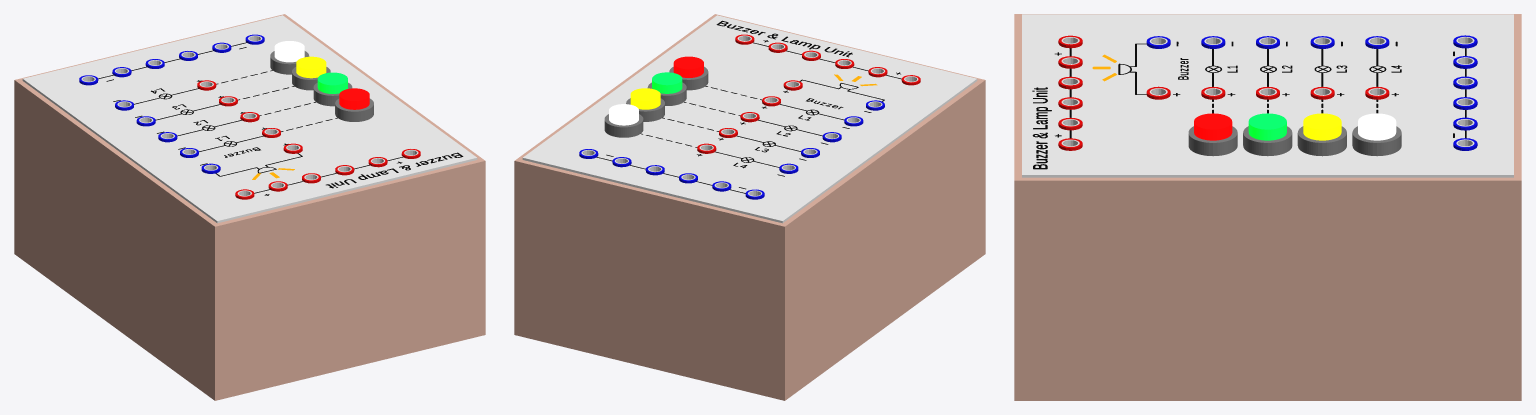
The model's file is buzzer-lamp.glb.
The picture shows the model from 3 angles, left to right: view 1: azimuth 30°, elevation 25°; view 2: azimuth 150°, elevation 25°; view 3: azimuth 270°, elevation 25°; orthographic projection. The views are drawn at different scales.
Parts seen in each view (by area): view 1: Buizzer-Lamp-ModuleBox_OP__go1003__mesh0, Buizzer-Lamp-ModuleBox_OP__go1003__mesh3, Buizzer-Lamp-ModuleBox_OP__go1003__mesh6, Buizzer-Lamp-ModuleBox_OP__go1003__mesh5, Buizzer-Lamp-ModuleBox_OP__go1003__mesh7, Buizzer-Lamp-ModuleBox_OP__go1003__mesh1, Buizzer-Lamp-ModuleBox_OP__go1003__mesh4, Buizzer-Lamp-ModuleBox_OP__go1003__mesh9, Buizzer-Lamp-ModuleBox_OP__go1003__mesh8, Buizzer-Lamp-ModuleBox_OP__go1003__mesh2; view 2: Buizzer-Lamp-ModuleBox_OP__go1003__mesh0, Buizzer-Lamp-ModuleBox_OP__go1003__mesh3, Buizzer-Lamp-ModuleBox_OP__go1003__mesh7, Buizzer-Lamp-ModuleBox_OP__go1003__mesh5, Buizzer-Lamp-ModuleBox_OP__go1003__mesh6, Buizzer-Lamp-ModuleBox_OP__go1003__mesh1, Buizzer-Lamp-ModuleBox_OP__go1003__mesh2, Buizzer-Lamp-ModuleBox_OP__go1003__mesh9, Buizzer-Lamp-ModuleBox_OP__go1003__mesh4, Buizzer-Lamp-ModuleBox_OP__go1003__mesh8; view 3: Buizzer-Lamp-ModuleBox_OP__go1003__mesh0, Buizzer-Lamp-ModuleBox_OP__go1003__mesh3, Buizzer-Lamp-ModuleBox_OP__go1003__mesh1, Buizzer-Lamp-ModuleBox_OP__go1003__mesh5, Buizzer-Lamp-ModuleBox_OP__go1003__mesh6, Buizzer-Lamp-ModuleBox_OP__go1003__mesh7, Buizzer-Lamp-ModuleBox_OP__go1003__mesh4, Buizzer-Lamp-ModuleBox_OP__go1003__mesh8, Buizzer-Lamp-ModuleBox_OP__go1003__mesh9, Buizzer-Lamp-ModuleBox_OP__go1003__mesh2.
Part boxes in pixels (<box>): Buizzer-Lamp-ModuleBox_OP__go1003__mesh0: <box>14,14,485,400</box>; Buizzer-Lamp-ModuleBox_OP__go1003__mesh3: <box>22,15,477,223</box>; Buizzer-Lamp-ModuleBox_OP__go1003__mesh6: <box>197,80,420,199</box>; Buizzer-Lamp-ModuleBox_OP__go1003__mesh5: <box>79,34,264,173</box>; Buizzer-Lamp-ModuleBox_OP__go1003__mesh7: <box>98,42,463,195</box>; Buizzer-Lamp-ModuleBox_OP__go1003__mesh1: <box>270,51,373,121</box>; Buizzer-Lamp-ModuleBox_OP__go1003__mesh4: <box>339,88,369,109</box>; Buizzer-Lamp-ModuleBox_OP__go1003__mesh9: <box>296,56,326,78</box>; Buizzer-Lamp-ModuleBox_OP__go1003__mesh8: <box>274,41,304,62</box>; Buizzer-Lamp-ModuleBox_OP__go1003__mesh2: <box>317,72,347,93</box>; Buizzer-Lamp-ModuleBox_OP__go1003__mesh0: <box>514,14,985,400</box>; Buizzer-Lamp-ModuleBox_OP__go1003__mesh3: <box>522,15,977,223</box>; Buizzer-Lamp-ModuleBox_OP__go1003__mesh7: <box>596,20,901,193</box>; Buizzer-Lamp-ModuleBox_OP__go1003__mesh5: <box>579,100,884,199</box>; Buizzer-Lamp-ModuleBox_OP__go1003__mesh6: <box>697,34,920,153</box>; Buizzer-Lamp-ModuleBox_OP__go1003__mesh1: <box>604,66,708,137</box>; Buizzer-Lamp-ModuleBox_OP__go1003__mesh2: <box>652,72,682,93</box>; Buizzer-Lamp-ModuleBox_OP__go1003__mesh9: <box>630,88,660,109</box>; Buizzer-Lamp-ModuleBox_OP__go1003__mesh4: <box>673,56,703,77</box>; Buizzer-Lamp-ModuleBox_OP__go1003__mesh8: <box>609,104,638,125</box>; Buizzer-Lamp-ModuleBox_OP__go1003__mesh0: <box>1014,14,1521,400</box>; Buizzer-Lamp-ModuleBox_OP__go1003__mesh3: <box>1022,14,1513,177</box>; Buizzer-Lamp-ModuleBox_OP__go1003__mesh1: <box>1188,126,1401,156</box>; Buizzer-Lamp-ModuleBox_OP__go1003__mesh5: <box>1146,35,1477,150</box>; Buizzer-Lamp-ModuleBox_OP__go1003__mesh6: <box>1058,35,1389,150</box>; Buizzer-Lamp-ModuleBox_OP__go1003__mesh7: <box>1032,41,1466,169</box>; Buizzer-Lamp-ModuleBox_OP__go1003__mesh4: <box>1194,113,1232,140</box>; Buizzer-Lamp-ModuleBox_OP__go1003__mesh8: <box>1358,113,1396,140</box>; Buizzer-Lamp-ModuleBox_OP__go1003__mesh9: <box>1303,113,1341,140</box>; Buizzer-Lamp-ModuleBox_OP__go1003__mesh2: <box>1248,113,1286,140</box>.
Bounding box in the file's own units: 0.13 × 0.0898 × 0.167.
Materials: 11 (5 with a texture image).
